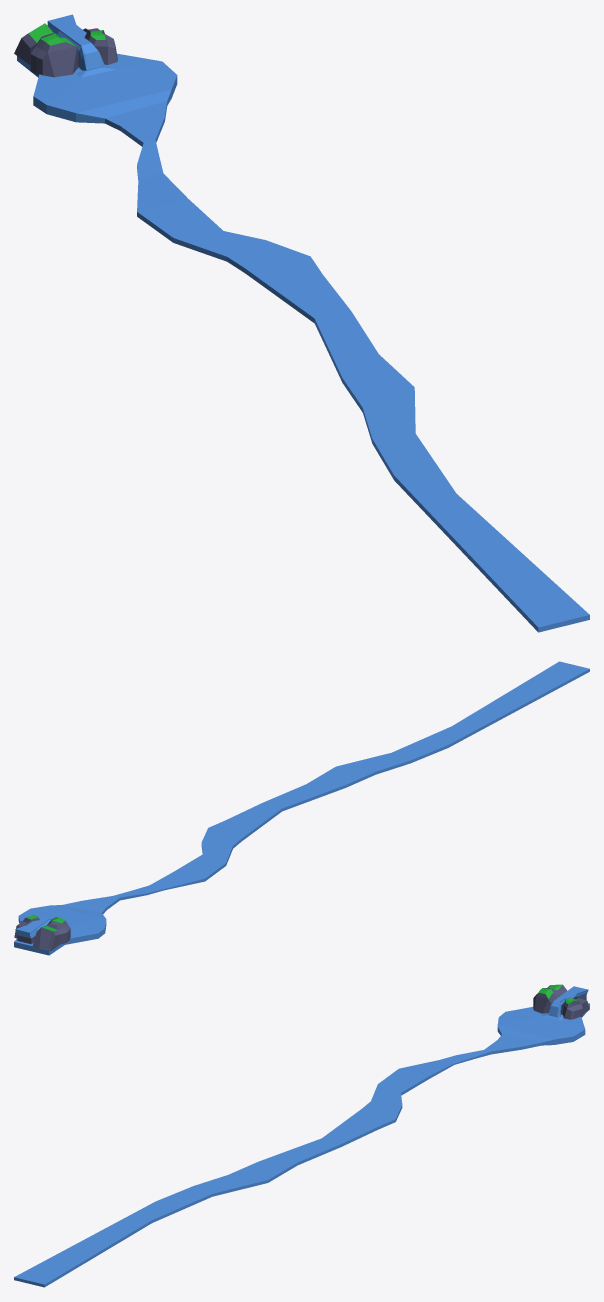
The model's file is waterfall.fbx.
3 renders of one model, top to bottom at view 1: azimuth 30°, elevation 25°; view 2: azimuth 150°, elevation 25°; view 3: azimuth 330°, elevation 25°, orthographic. The views are drawn at different scales.
Parts seen in each view (by area): view 1: Cube.003, Cube; view 2: Cube.003, Cube; view 3: Cube.003, Cube, Cube.001.
Boxes of the visible parts, x1,y1,x2,y2 form: Cube.003: [17, 14, 589, 632]; Cube: [14, 23, 78, 77]; Cube.003: [14, 661, 589, 955]; Cube: [32, 917, 70, 951]; Cube.003: [14, 986, 589, 1287]; Cube: [533, 984, 567, 1013]; Cube.001: [561, 997, 589, 1019].
Bounding box in the file's own units: 6497 × 826 × 27287.
